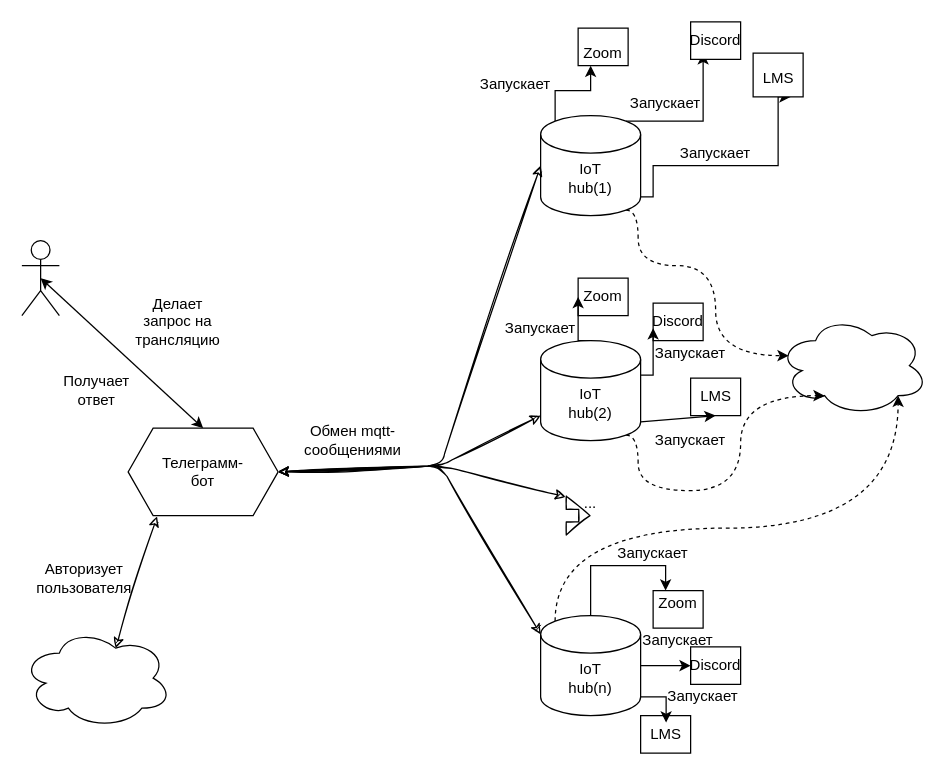
Some shapes in this 950 by 775 pixel diagram are drawn without their labels. Here are the shapes that lost their labels. From the top down, the centre of each, then its label:
At (40,277): "Actor".
At (852,365): "Система логирования".
At (96,677): "Система авторизации".
